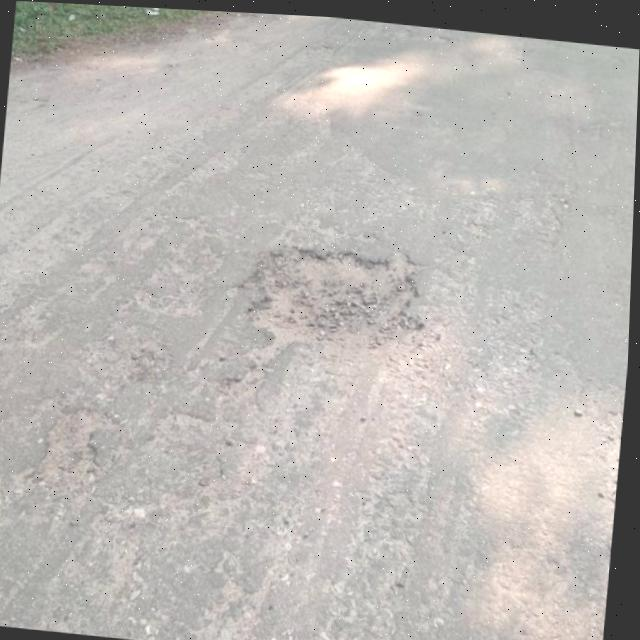Pothole: (241, 228, 439, 370), (41, 403, 115, 485)
